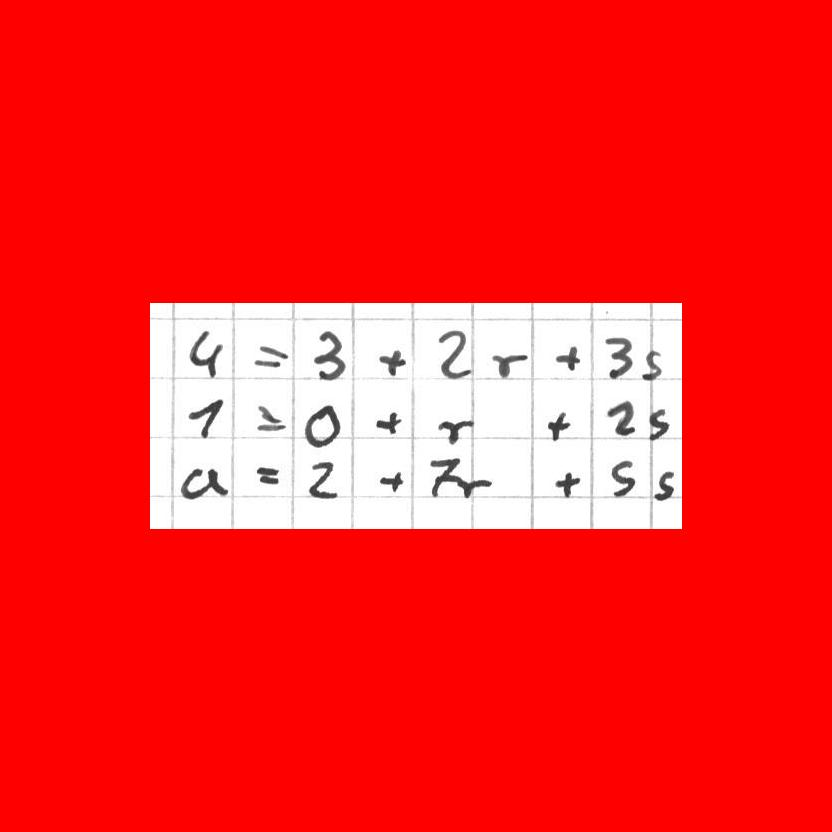Char: (177, 463, 231, 503), (433, 328, 474, 380), (187, 324, 223, 382), (309, 330, 348, 378), (300, 405, 344, 446), (186, 398, 222, 441), (303, 460, 340, 501), (602, 334, 633, 381), (428, 453, 458, 498), (435, 414, 475, 446), (604, 399, 635, 439), (607, 457, 636, 499), (490, 349, 526, 381), (253, 341, 286, 372), (255, 402, 285, 434), (544, 407, 570, 443), (453, 474, 492, 498), (645, 406, 670, 441), (374, 408, 404, 437), (378, 346, 408, 375), (554, 468, 581, 500), (553, 343, 582, 372), (640, 347, 663, 381), (254, 463, 284, 487), (652, 469, 675, 500), (378, 470, 406, 495)
